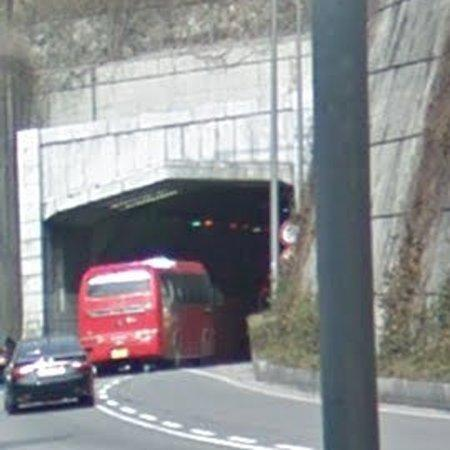buses: (78, 258, 223, 365)
